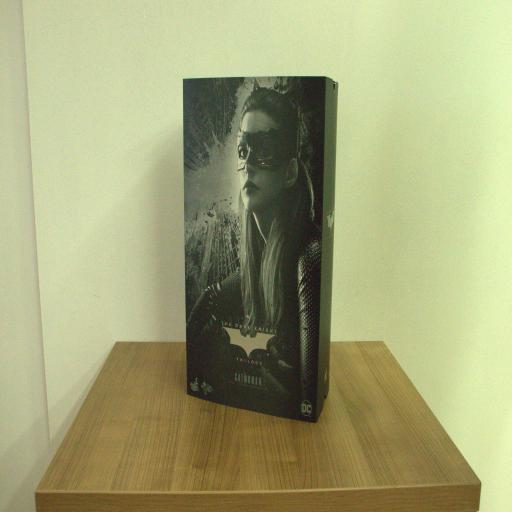catwoman: (183, 76, 337, 426)
